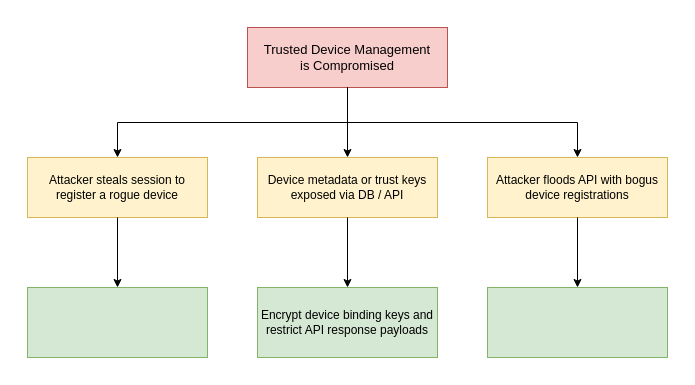
This 695x385 diagram has some shape labels left out. The centre of each missing label's shape, as x and y in pixels:
Apply strict rate limiting and maximum allowed devices per user: the point at 577,322
Require explicit MFA / Re-Authenticaiton for new device registration: the point at 117,322
